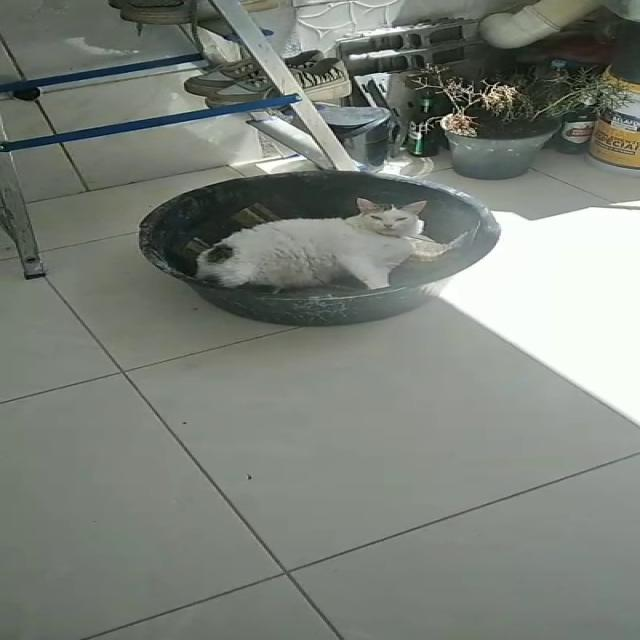Simba: (190, 188, 469, 290)
